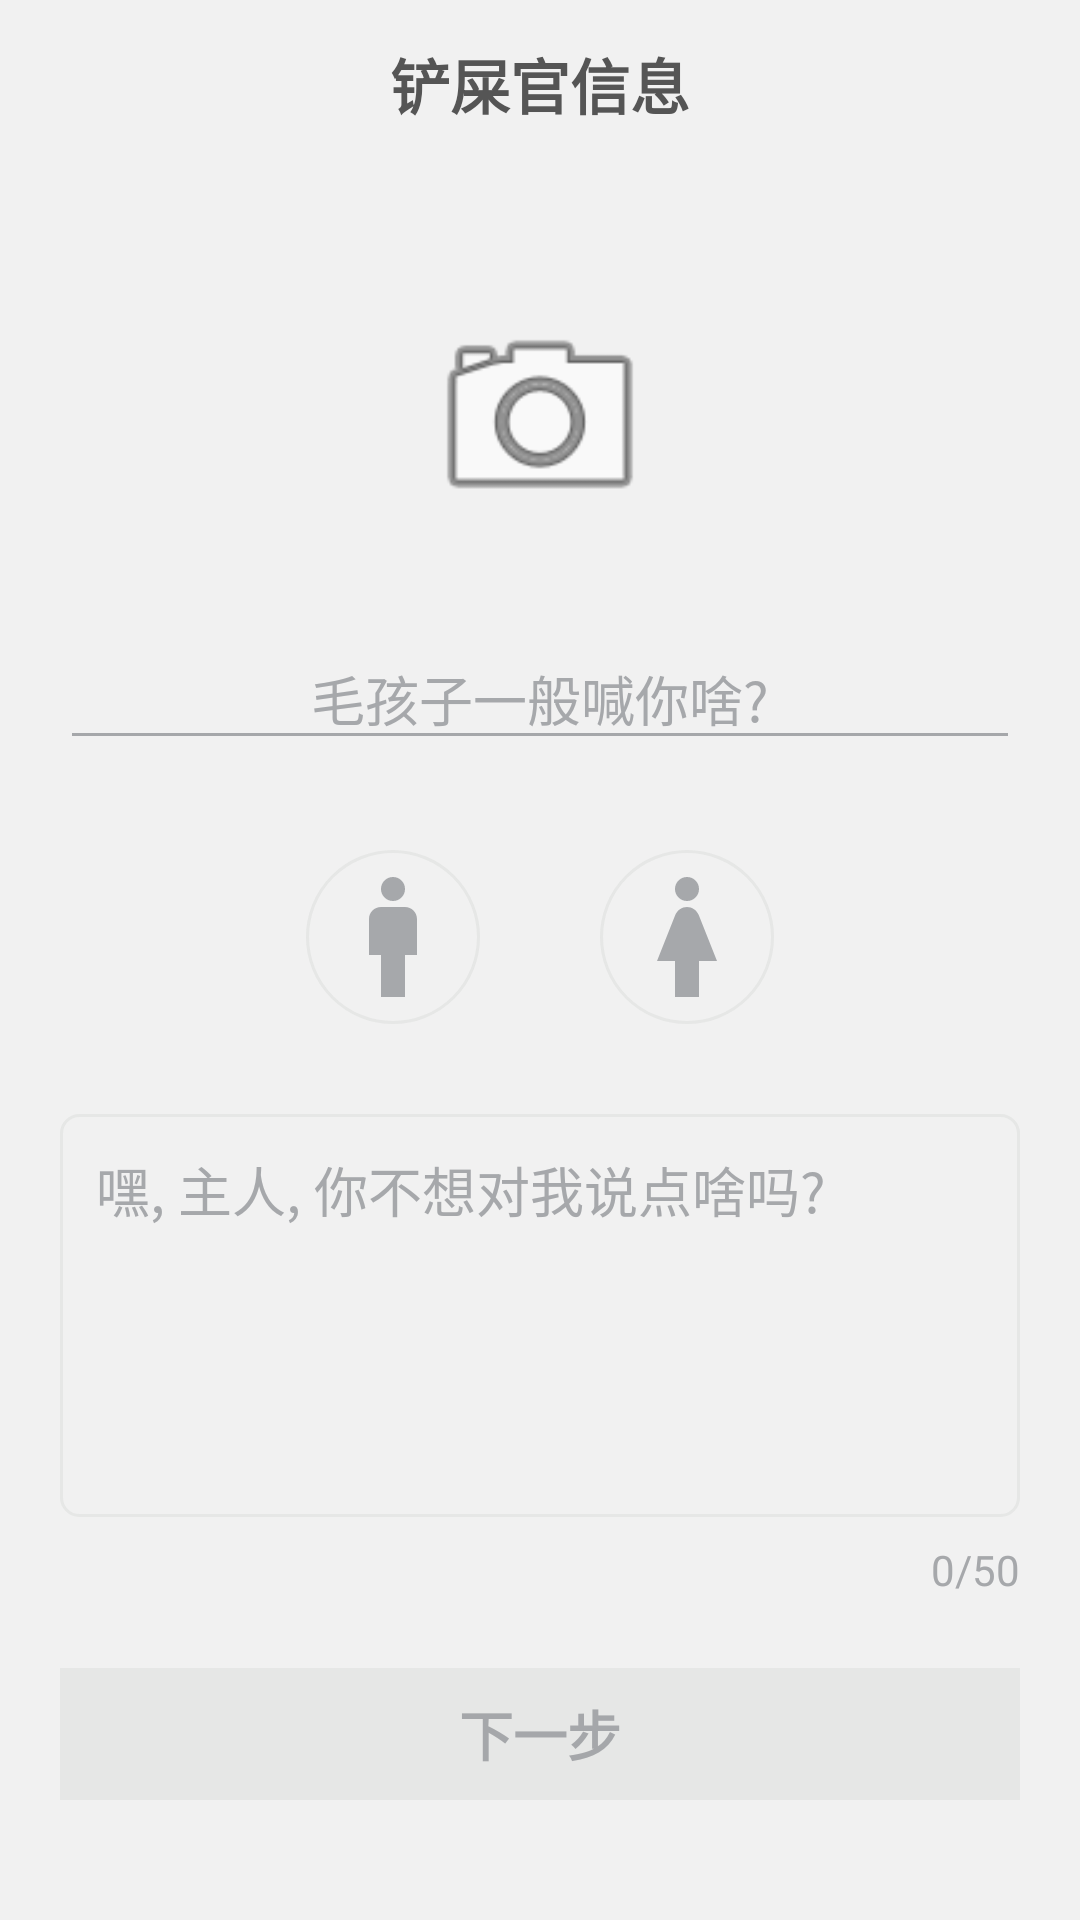

Where to tap for icons on this 1080 x 1920 app screen, as (x,y):
camera: (540,414)
man: (393,937)
woman: (687,937)
